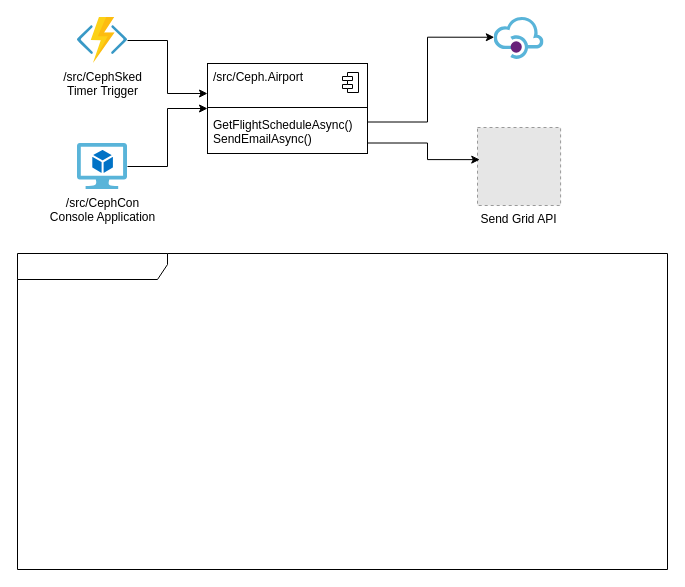
Some shapes in this 685 by 587 pixel diagram are drawn without their labels. Grey dashed boxes stand in for pictures. The box of each missing label's shape, as (x1, y1, x2, y2) in pixels:
Better Airport API Swagger UI (betterairport.com): (494, 17, 544, 59)
Ceph System Diagram: (16, 252, 668, 570)
